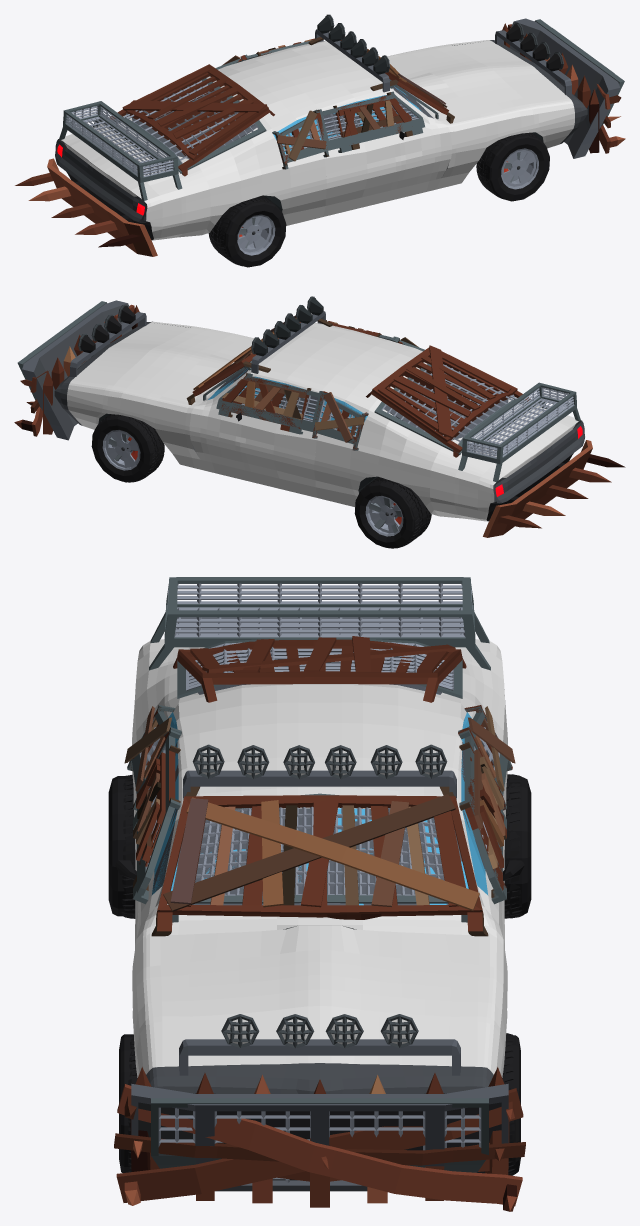
The model's file is Car_02.fbx.
3 renders of one model, top to bottom at view 1: azimuth 30°, elevation 25°; view 2: azimuth 150°, elevation 25°; view 3: azimuth 270°, elevation 25°, orthographic. The views are drawn at different scales.
Parts seen in each view (by area): view 1: Barakuda_Body, Barakuda_Hood, Front_Findow_Boards.001, Doors_Right, Rear_side, REar_Bumper_Boards, Front]_bumper, Circle.002, Circle.005, Right_Door_Grid.001, Light_bur.001, luggage carrier (+11 smaller); view 2: Barakuda_Body, Barakuda_Hood, Front_Findow_Boards.001, Doors_Left, Rear_side, REar_Bumper_Boards, Front]_bumper, Circle.001, Circle.003, Left_Door_Boards, Left_Door_Grid, Light_bur.001 (+11 smaller); view 3: Barakuda_Body, Barakuda_Hood, Front_Findow_Boards, Front_Bumper_Boards, Rear_side, Front]_bumper, Front_Findow_Boards.001, Light_bur.001, Light_bur, Front_Bumper_Grid, Куб.002, Плоскость (+15 smaller).
Part boxes in pixels (box(x1,y1,x2,y2)): Barakuda_Body: box(55, 40, 587, 240); Barakuda_Hood: box(388, 41, 569, 120); Front_Findow_Boards.001: box(109, 64, 274, 176); Doors_Right: box(322, 92, 451, 205); Rear_side: box(59, 101, 182, 200); REar_Bumper_Boards: box(15, 158, 157, 256); Front]_bumper: box(509, 18, 620, 158); Circle.002: box(217, 198, 286, 267); Circle.005: box(483, 133, 549, 201); Right_Door_Grid.001: box(319, 91, 424, 152); Light_bur.001: box(315, 14, 389, 92); luggage carrier: box(64, 123, 181, 196); Barakuda_Body: box(54, 321, 584, 521); Barakuda_Hood: box(72, 322, 252, 401); Front_Findow_Boards.001: box(366, 345, 530, 457); Doors_Left: box(189, 374, 319, 486); Rear_side: box(458, 382, 580, 482); REar_Bumper_Boards: box(483, 440, 625, 537); Front]_bumper: box(22, 300, 132, 440); Circle.001: box(91, 415, 155, 482); Circle.003: box(354, 479, 427, 548); Left_Door_Boards: box(221, 373, 311, 431); Left_Door_Grid: box(216, 373, 321, 434); Light_bur.001: box(251, 296, 325, 373); Barakuda_Body: box(132, 639, 507, 1093); Barakuda_Hood: box(160, 925, 479, 1066); Front_Findow_Boards: box(151, 786, 488, 936); Front_Bumper_Boards: box(114, 1067, 525, 1211); Rear_side: box(149, 577, 490, 670); Front]_bumper: box(131, 1083, 508, 1191); Front_Findow_Boards.001: box(173, 636, 466, 702); Light_bur.001: box(183, 744, 456, 799); Light_bur: box(179, 1014, 460, 1075); Front_Bumper_Grid: box(151, 1098, 488, 1182); Куб.002: box(172, 793, 467, 922); Плоскость: box(177, 638, 462, 698).
Bounding box in the file's own units: 570 × 162 × 196.
